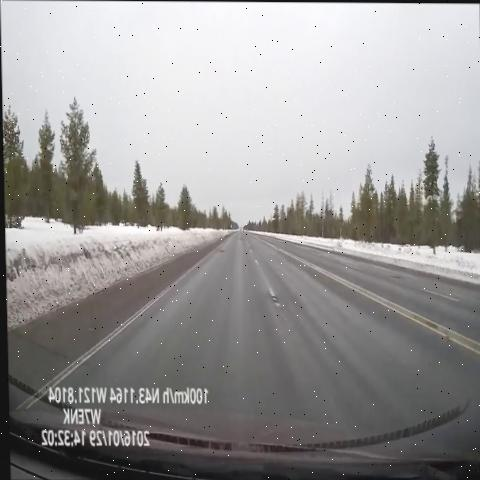pothole: (264, 277, 287, 317), (385, 267, 408, 291), (212, 242, 228, 257), (231, 232, 244, 245)
